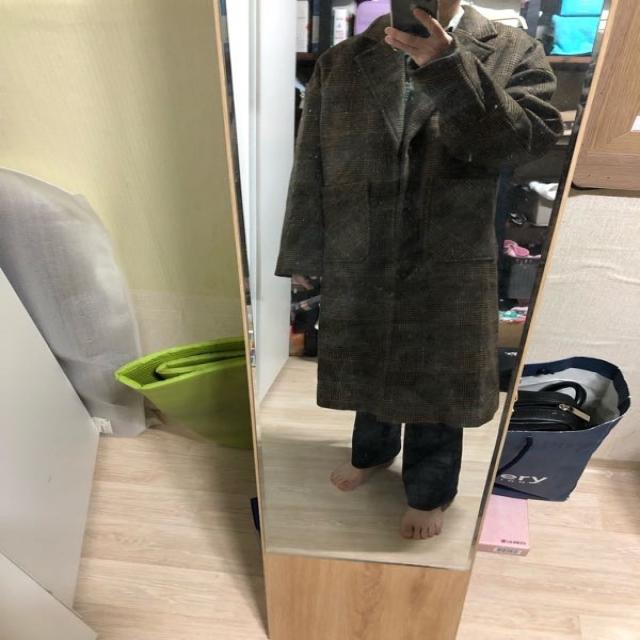coat: (274, 4, 558, 426)
slacks: (352, 403, 460, 513)
